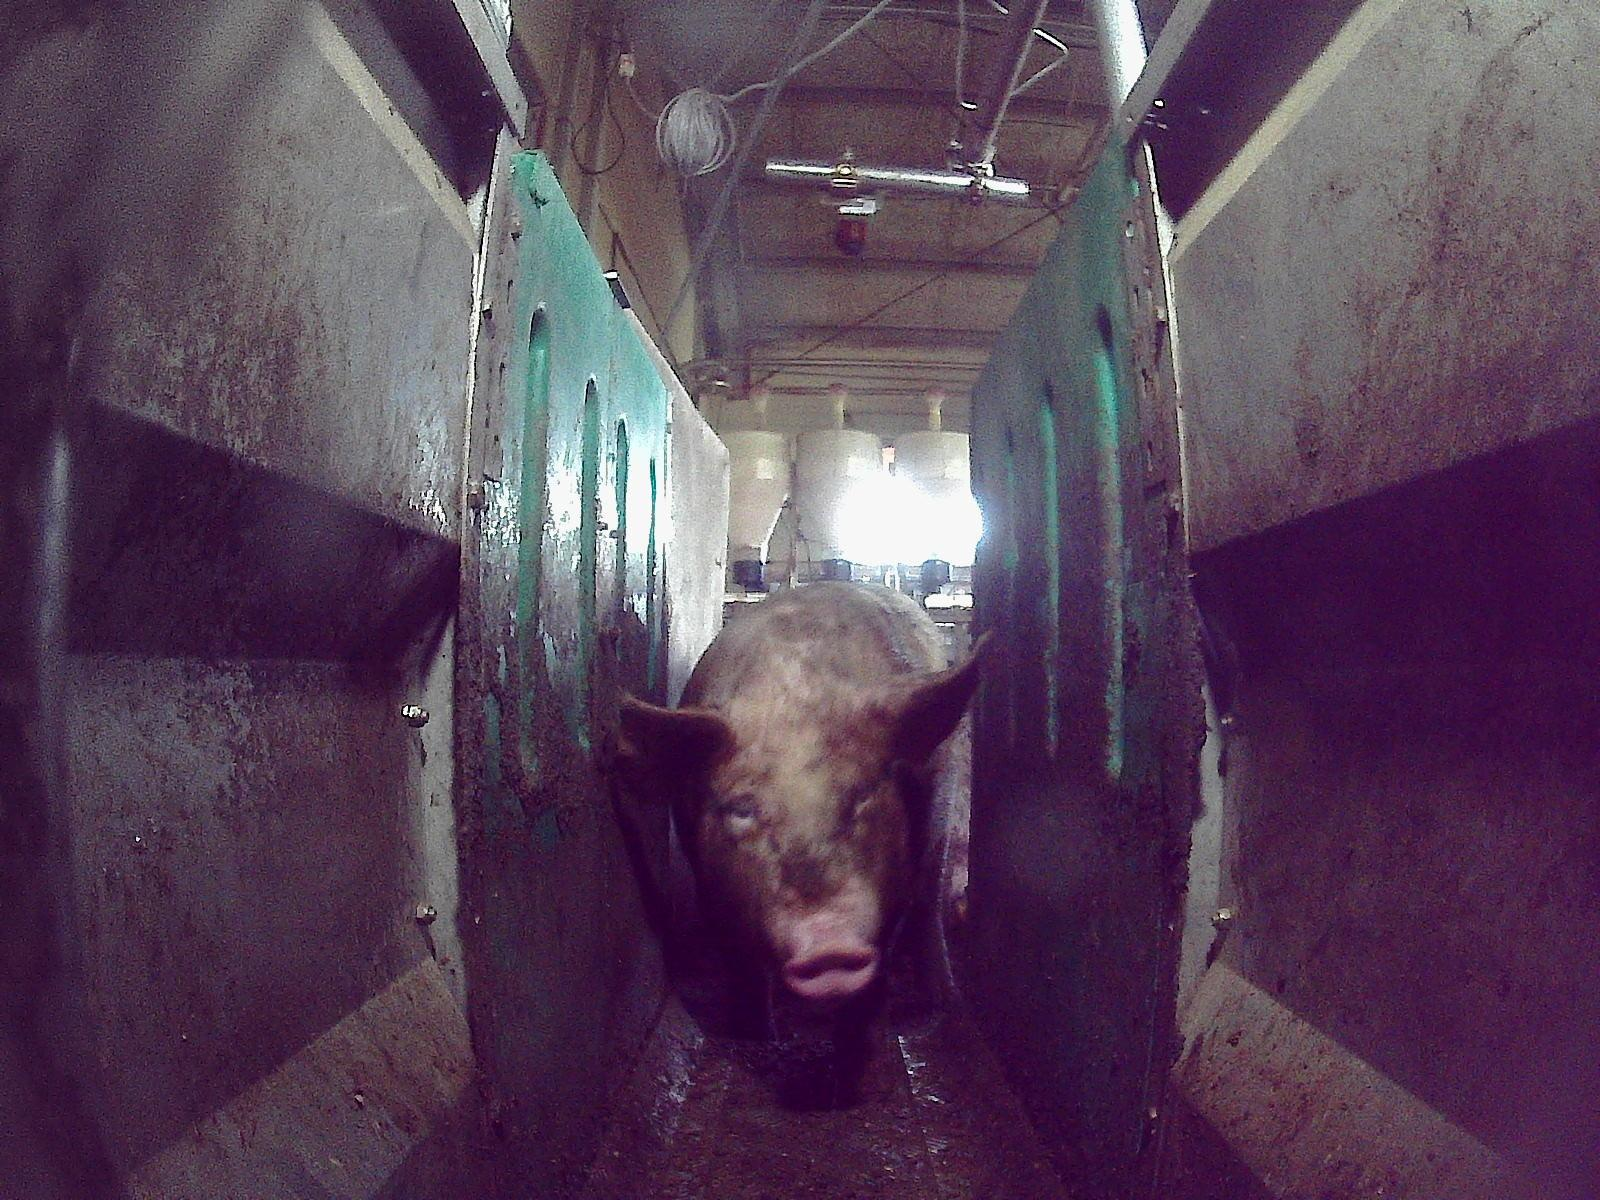Face: (688, 704, 920, 999)
